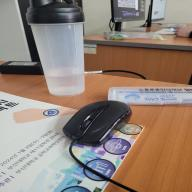mouse: (62, 99, 134, 147)
